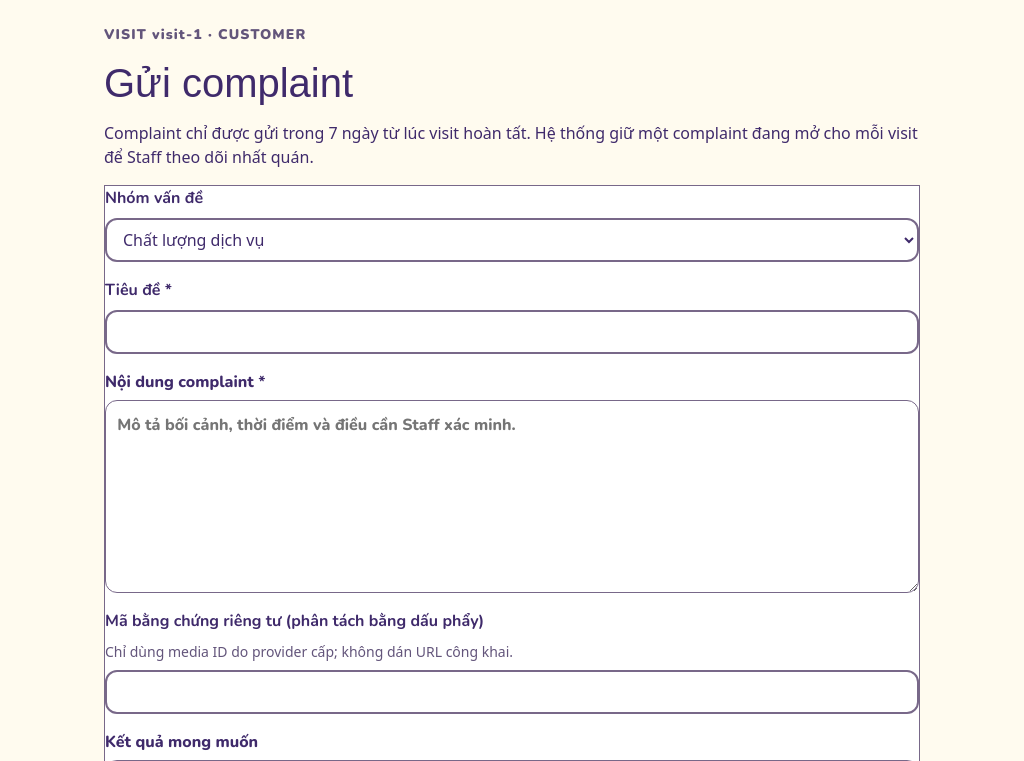
Test: Customer complaint form handles the seven-day and duplicate errors
Type "Cần xác minh" into the field labelled "Tiêu đề" at (512, 332), box left=105, top=310, right=919, bottom=354
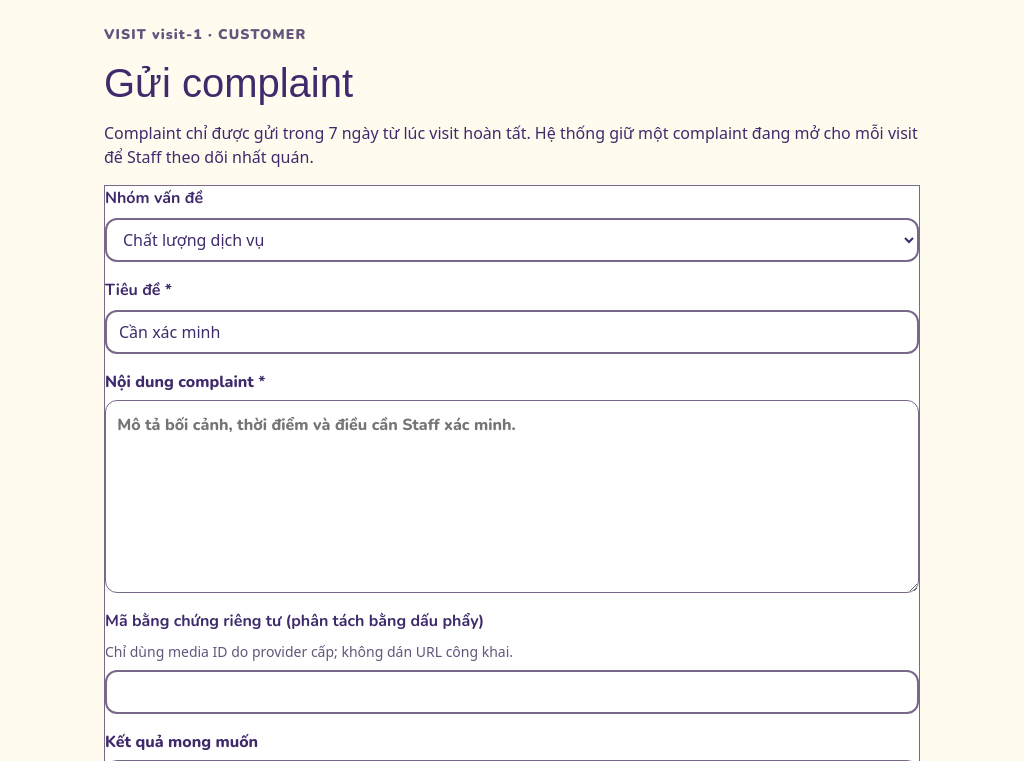
Type "Mô tả" into the text box labelled "Nội dung complaint *" at (512, 497), box left=105, top=400, right=919, bottom=593
(page scrolled)
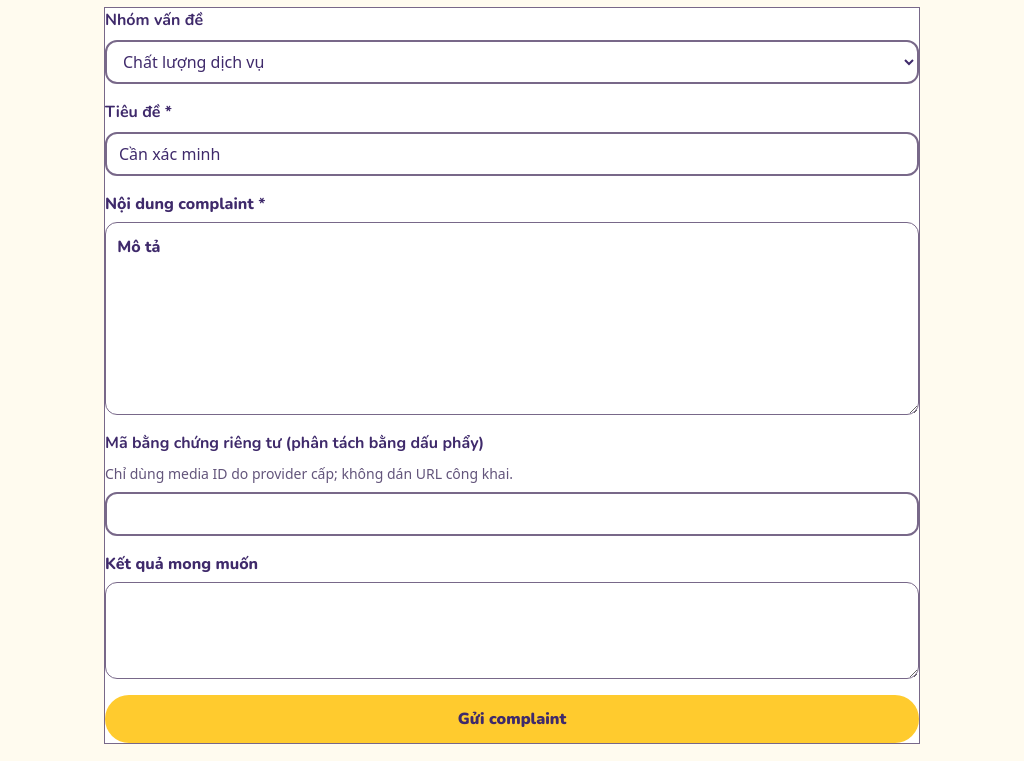
Click the button "Gửi complaint" at (512, 719), box left=105, top=694, right=919, bottom=743
(page scrolled)
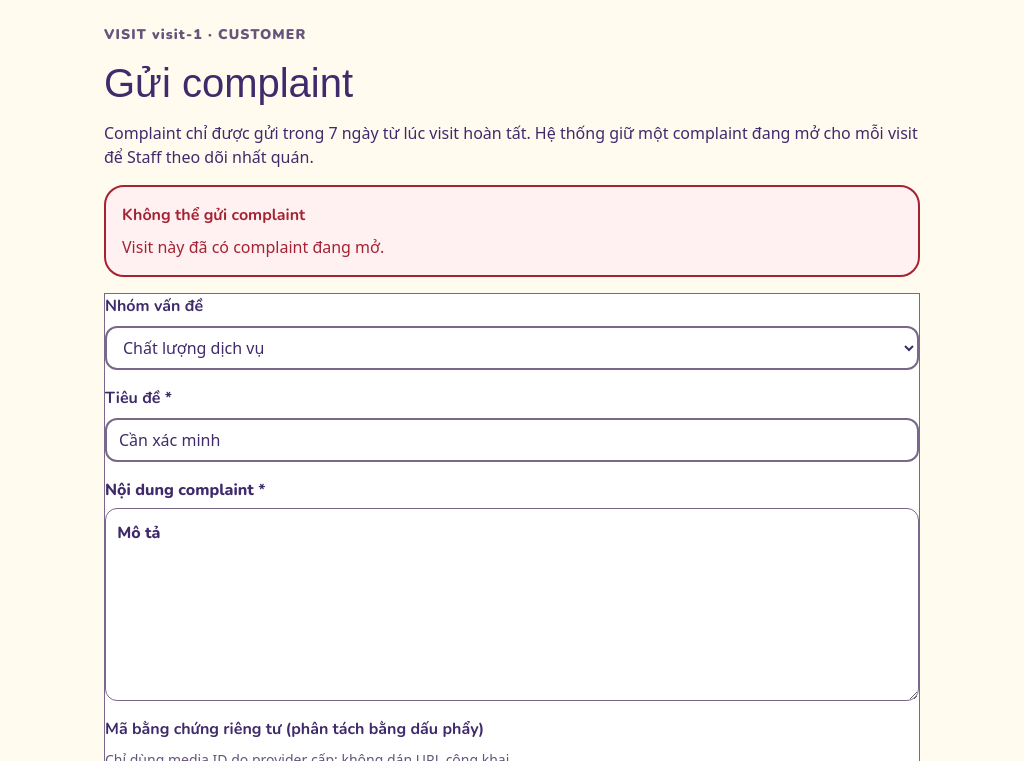
Result: the heading "Không thể gửi complaint" is shown at left=122, top=204, right=305, bottom=226
Result: the text "Visit này đã có complaint đang mở." is shown at left=122, top=236, right=384, bottom=258
